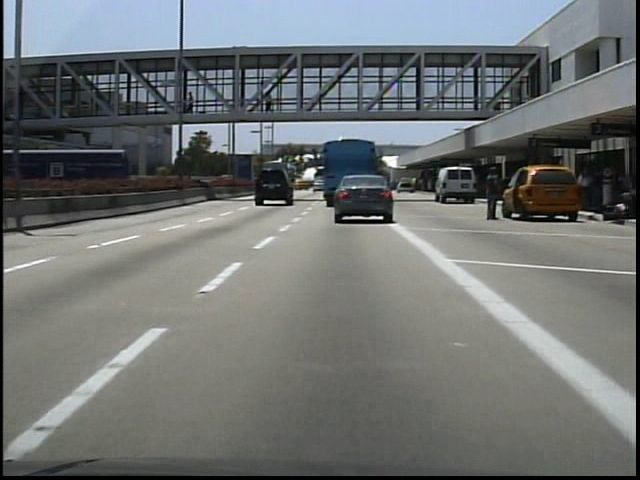person: (480, 163, 506, 224), (263, 89, 278, 120), (184, 90, 199, 117)
